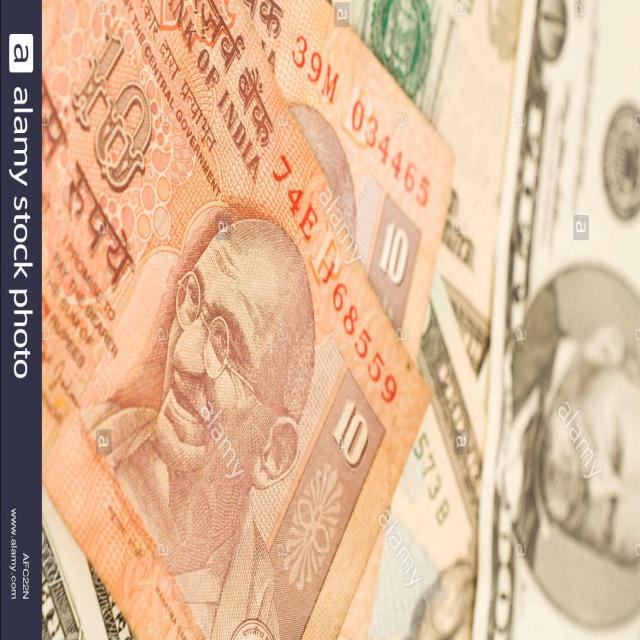10IndianRupees: (43, 0, 416, 640)
